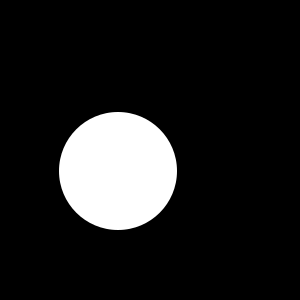rectangle: (59, 112, 177, 230)
